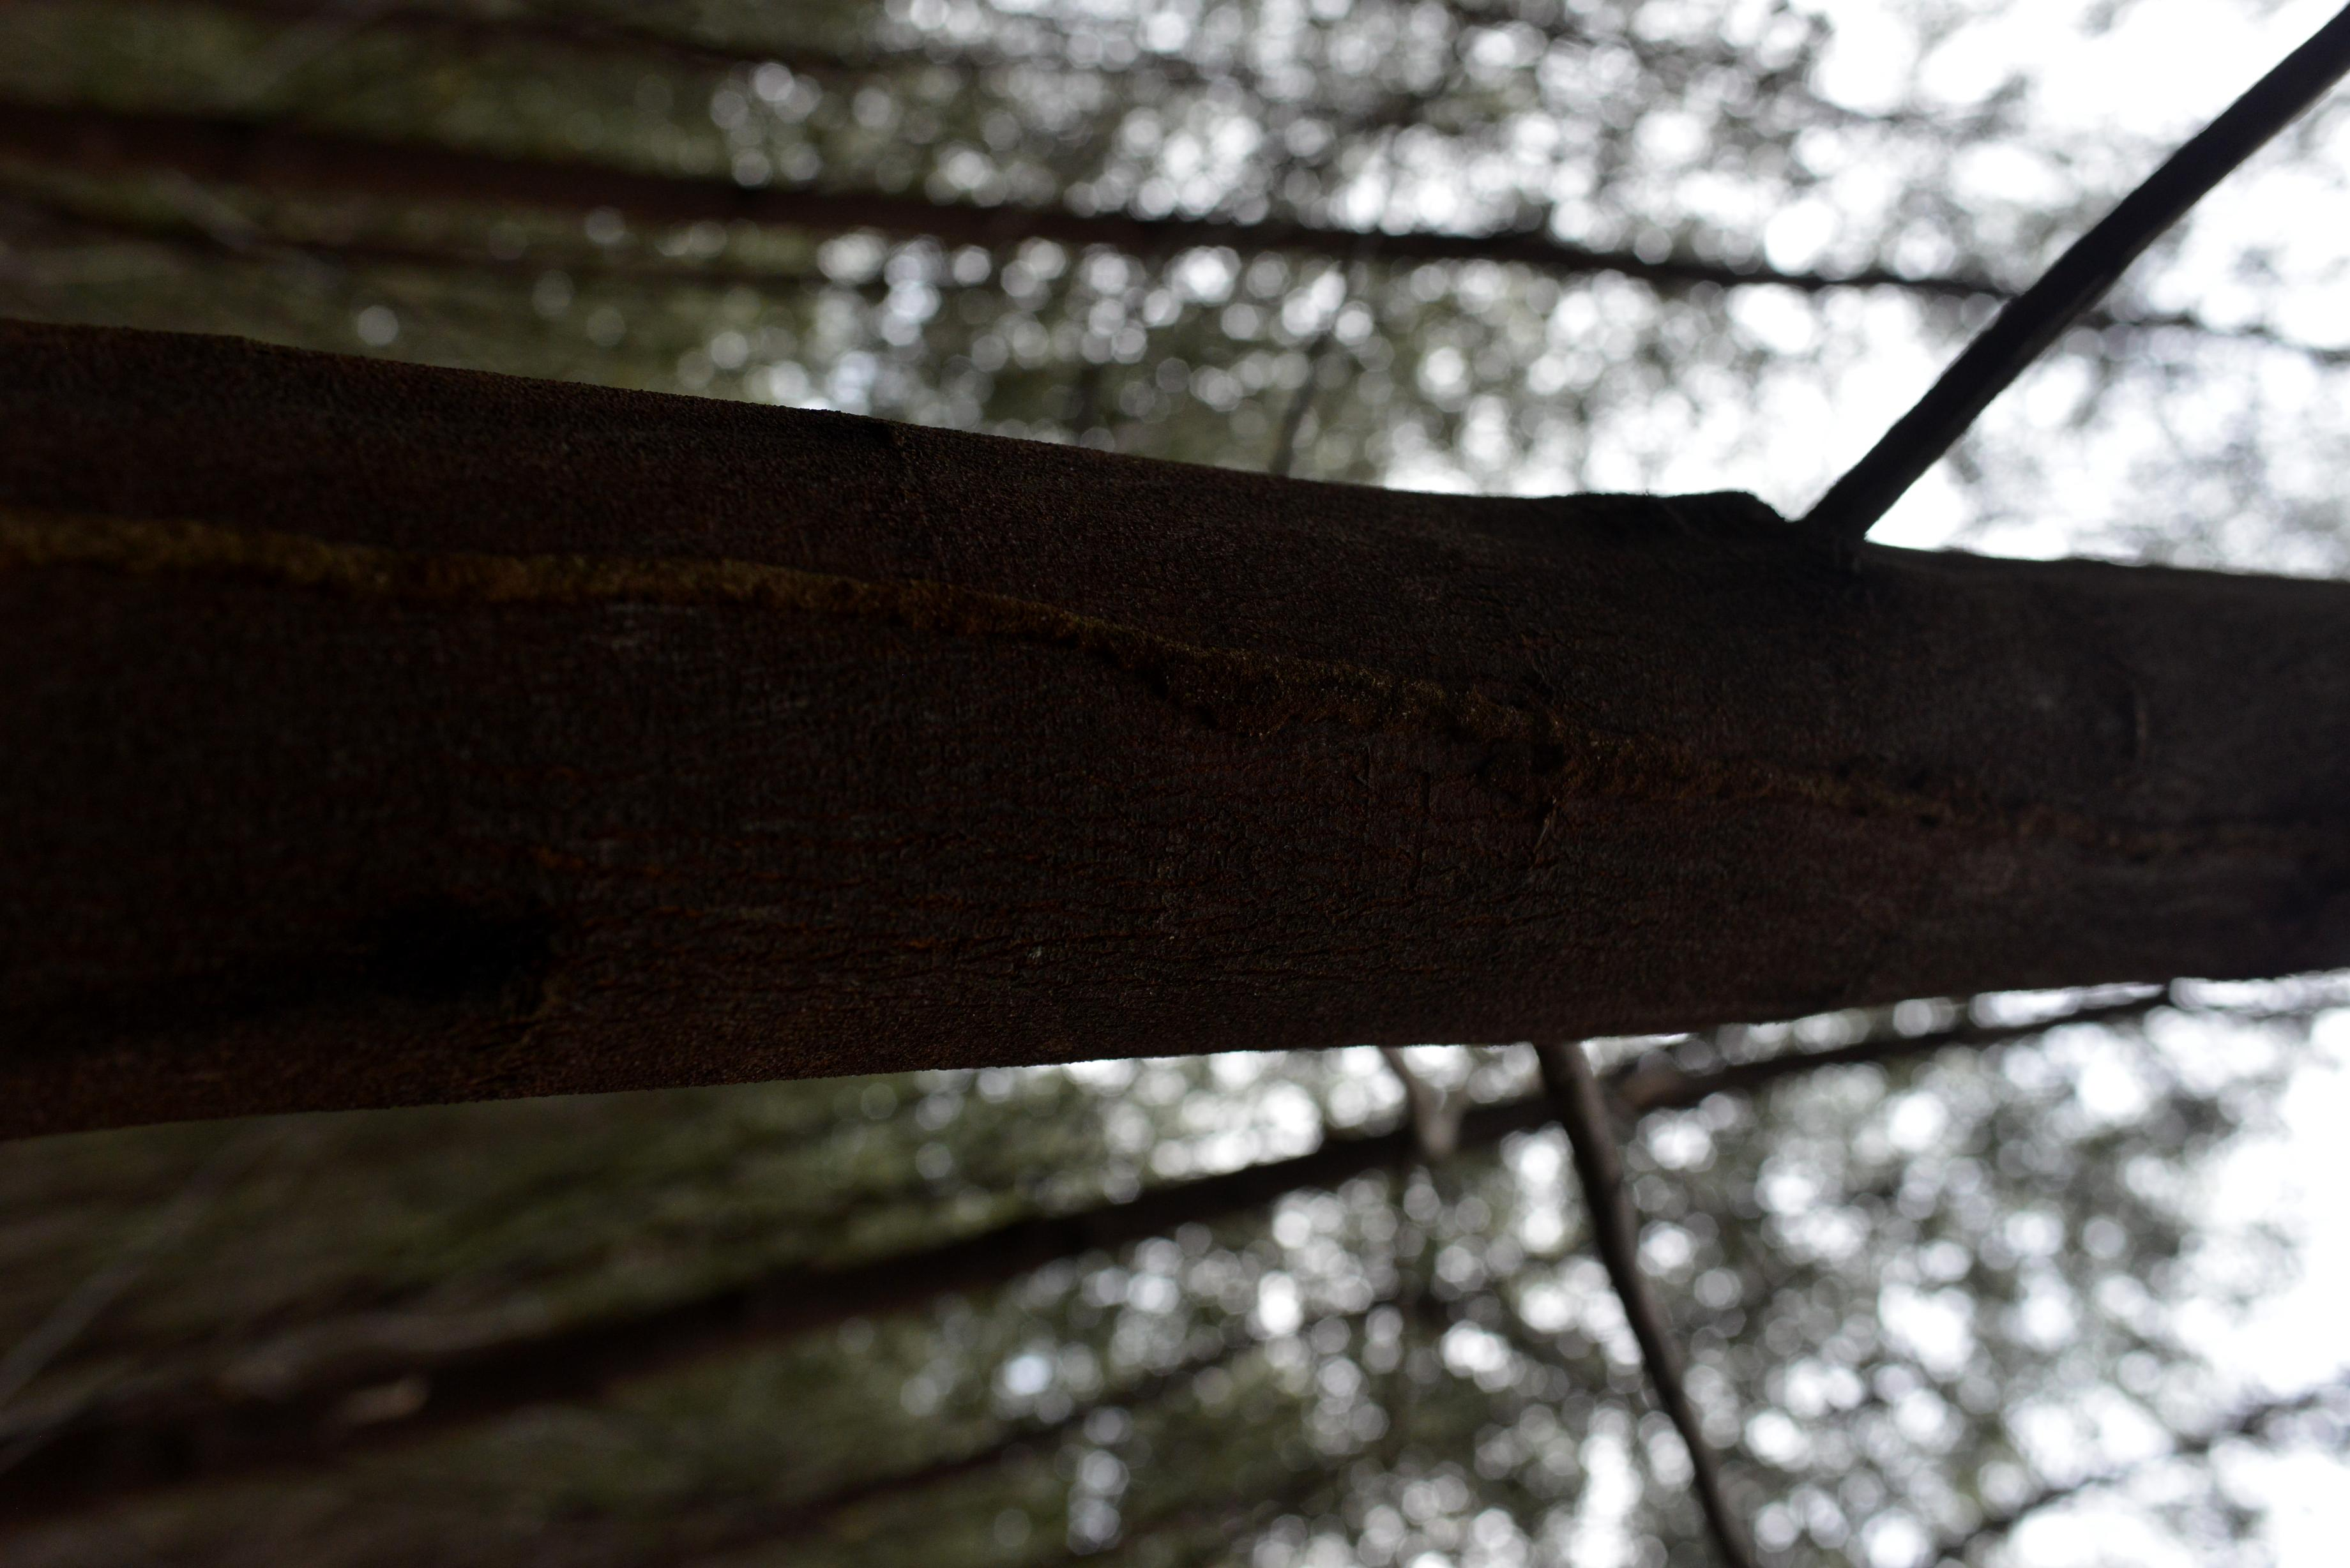Stem Borer: (0, 852, 595, 1060)
Termite - Nest: (0, 476, 2350, 892)
